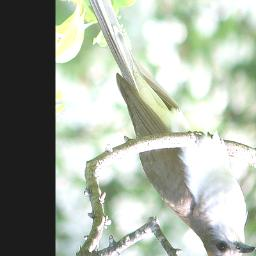Cuckoo: (74, 0, 256, 256)
